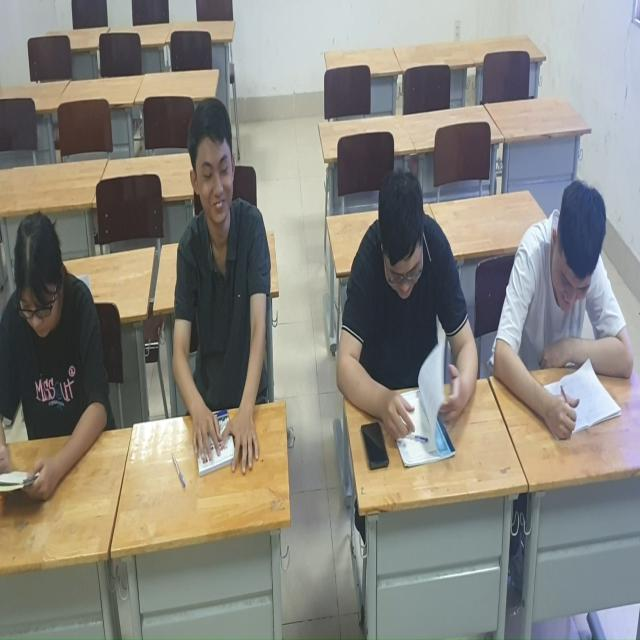read: (143, 89, 286, 502), (321, 149, 482, 483), (486, 156, 636, 461), (1, 204, 128, 502)
